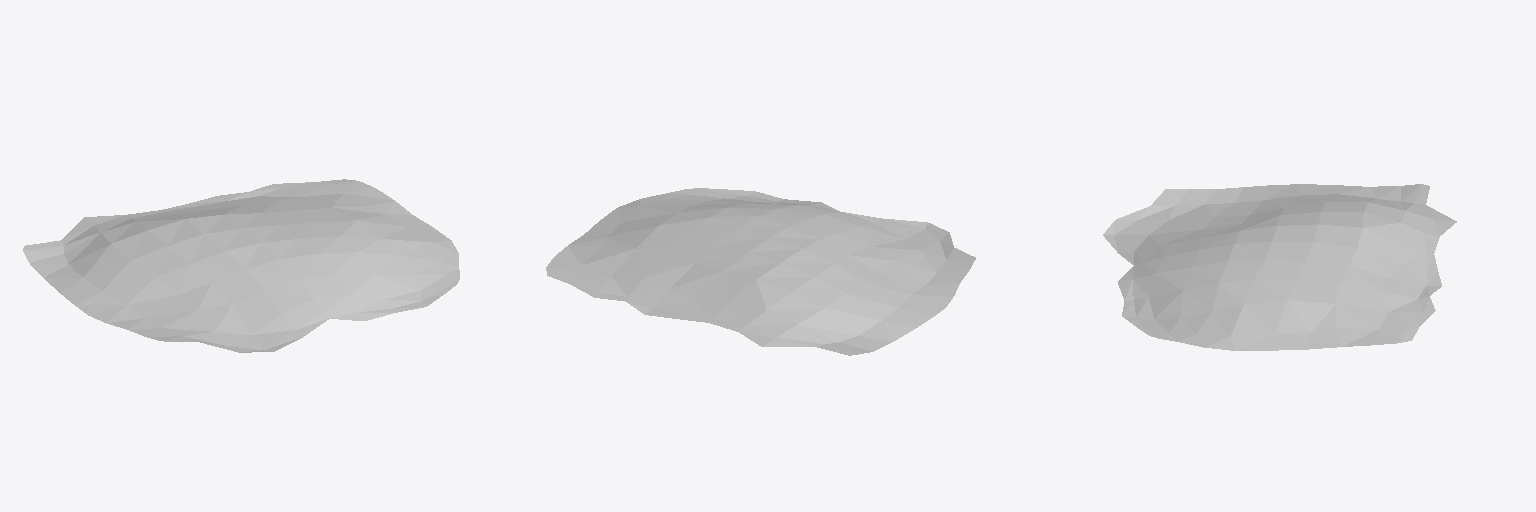
Rendered from HomeBase.obj.
3 views of the same model, side by side, from view 1: azimuth 30°, elevation 25°; view 2: azimuth 150°, elevation 25°; view 3: azimuth 270°, elevation 25° (orthographic).
Visible parts, largest first — view 1: HomeBaseTerrain1; view 2: HomeBaseTerrain1; view 3: HomeBaseTerrain1.
Boxes of the visible parts, box(x1,y1,x2,y2) form: HomeBaseTerrain1: box(23, 179, 459, 352); HomeBaseTerrain1: box(546, 188, 975, 355); HomeBaseTerrain1: box(1103, 184, 1456, 350).
Size of the model in its own units: 264 by 22.62 by 234.